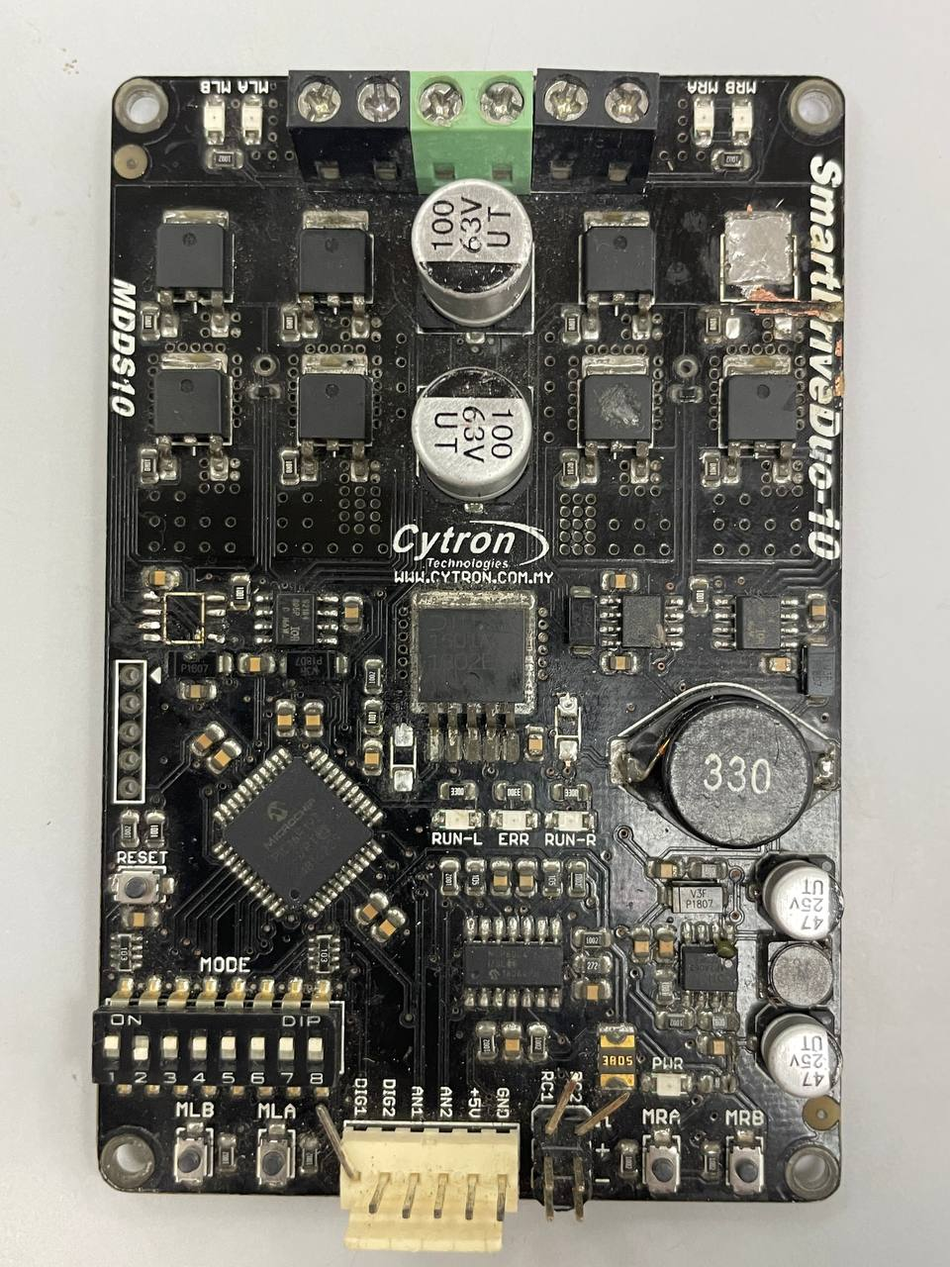bent_pin: (310, 1100, 363, 1186), (573, 1085, 636, 1140), (540, 1075, 584, 1140)
broken_comp: (579, 358, 658, 458)
missing_comp: (720, 202, 797, 308), (153, 588, 215, 648)
